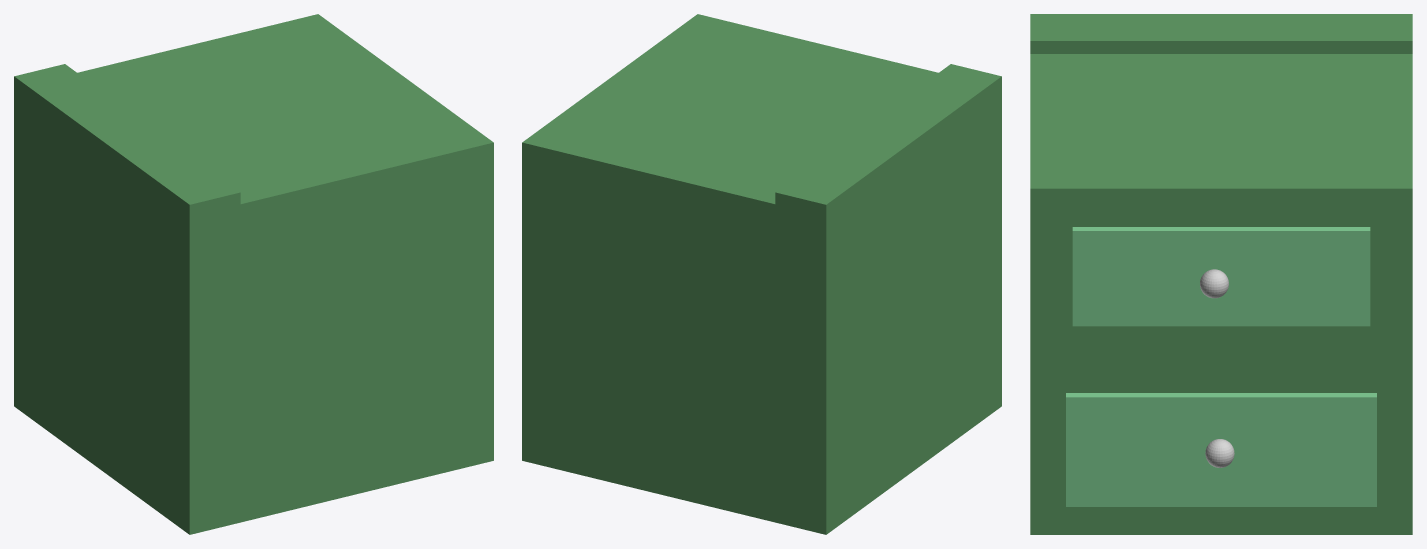
File: MesaTrabajo2.fbx
3 views of the same model, side by side, from view 1: azimuth 30°, elevation 25°; view 2: azimuth 150°, elevation 25°; view 3: azimuth 270°, elevation 25° (orthographic). The views are drawn at different scales.
Parts seen in each view (by area): view 1: Cube; view 2: Cube; view 3: Cube.
Boxes of the visible parts, bbox=[...] form: Cube: bbox=[14, 14, 493, 534]; Cube: bbox=[522, 14, 1001, 534]; Cube: bbox=[1030, 14, 1412, 534].
Bounding box in the file's own units: 111 × 104 × 100.
